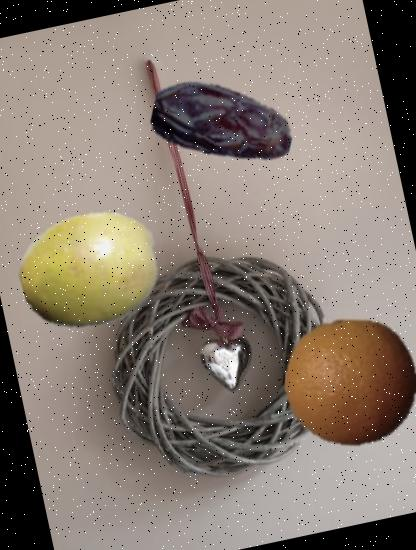Dates: (138, 37, 308, 207)
Maracuja: (6, 186, 174, 354)
Orange: (272, 304, 416, 463)
